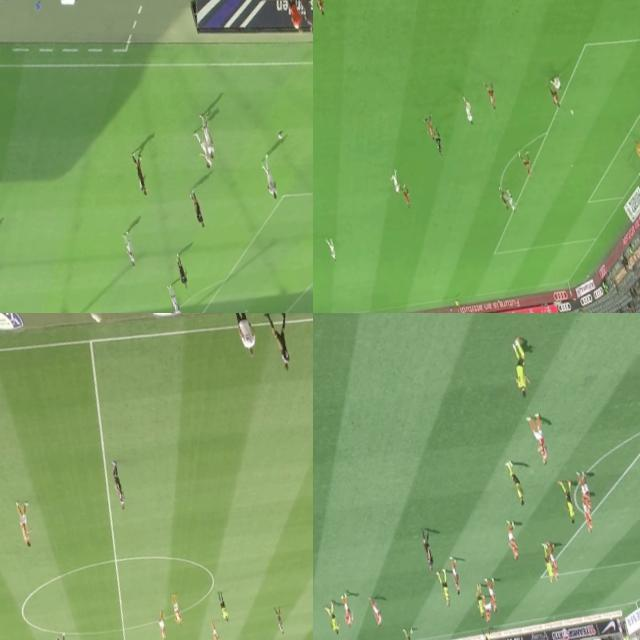ball: (274, 129, 286, 144), (568, 106, 575, 117), (325, 606, 331, 616)
player: (526, 410, 551, 466), (510, 341, 532, 398), (108, 462, 130, 516), (194, 127, 218, 176), (128, 143, 148, 199), (258, 156, 280, 204), (557, 478, 578, 528), (13, 504, 34, 548), (506, 459, 525, 506), (198, 112, 218, 156), (188, 190, 208, 232), (172, 254, 192, 295), (579, 491, 596, 534), (482, 574, 500, 614), (577, 474, 594, 515), (338, 590, 356, 628), (504, 519, 520, 559), (546, 544, 562, 582), (164, 282, 183, 313), (448, 556, 463, 595), (542, 545, 556, 586), (152, 609, 170, 640), (326, 602, 341, 638), (438, 572, 453, 608), (520, 147, 536, 180), (472, 581, 487, 616), (273, 606, 289, 638), (370, 597, 386, 629), (122, 232, 136, 264), (481, 593, 494, 627), (400, 183, 414, 214), (484, 81, 498, 112), (170, 596, 183, 627), (424, 112, 438, 140), (547, 82, 560, 112), (324, 238, 338, 265), (462, 97, 475, 126), (498, 183, 510, 214), (506, 186, 518, 216), (388, 171, 401, 198), (401, 624, 417, 640), (550, 74, 562, 94), (209, 620, 221, 640), (313, 0, 327, 17), (54, 628, 71, 640), (635, 139, 640, 162)
